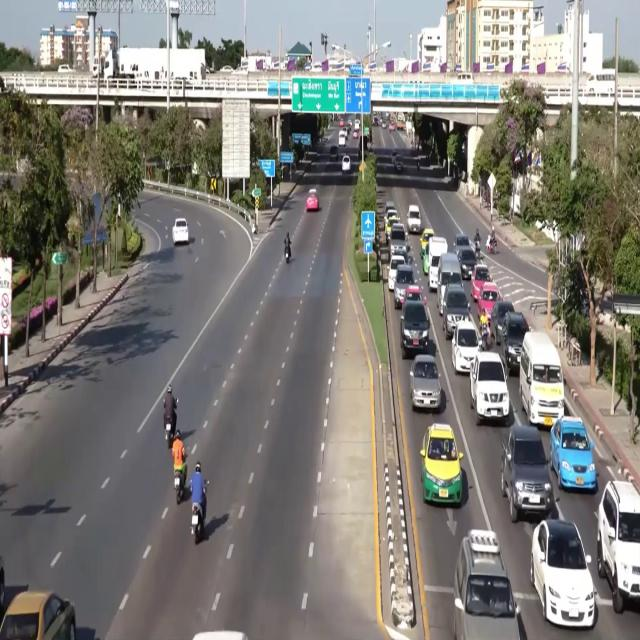car: (453, 529, 522, 639), (530, 520, 595, 628), (597, 480, 639, 614), (501, 424, 555, 522), (0, 591, 75, 639), (550, 416, 596, 491), (421, 424, 463, 504), (470, 351, 509, 424), (498, 312, 529, 373), (410, 354, 441, 410), (400, 302, 429, 359), (442, 283, 469, 339), (452, 320, 478, 373), (477, 281, 500, 325), (491, 300, 514, 344), (394, 264, 414, 309), (471, 264, 491, 301), (388, 255, 405, 291), (389, 223, 408, 255), (457, 248, 476, 279), (402, 285, 426, 306), (172, 218, 189, 245), (193, 631, 248, 639), (385, 209, 399, 238), (407, 205, 421, 233), (420, 229, 434, 255), (453, 234, 471, 251), (0, 556, 5, 614), (394, 249, 412, 264), (306, 189, 318, 211), (384, 200, 395, 216), (58, 64, 74, 73), (342, 155, 350, 173), (395, 156, 403, 172), (330, 145, 338, 160), (339, 131, 346, 147), (219, 65, 233, 72), (354, 120, 360, 130), (392, 151, 397, 162), (389, 123, 395, 131), (352, 130, 358, 138), (373, 117, 378, 126), (381, 121, 386, 128), (339, 120, 344, 127), (348, 119, 352, 127)
scooty: (174, 471, 184, 504), (165, 419, 174, 448), (285, 248, 290, 263)
truck: (92, 48, 166, 79), (397, 113, 404, 130)
